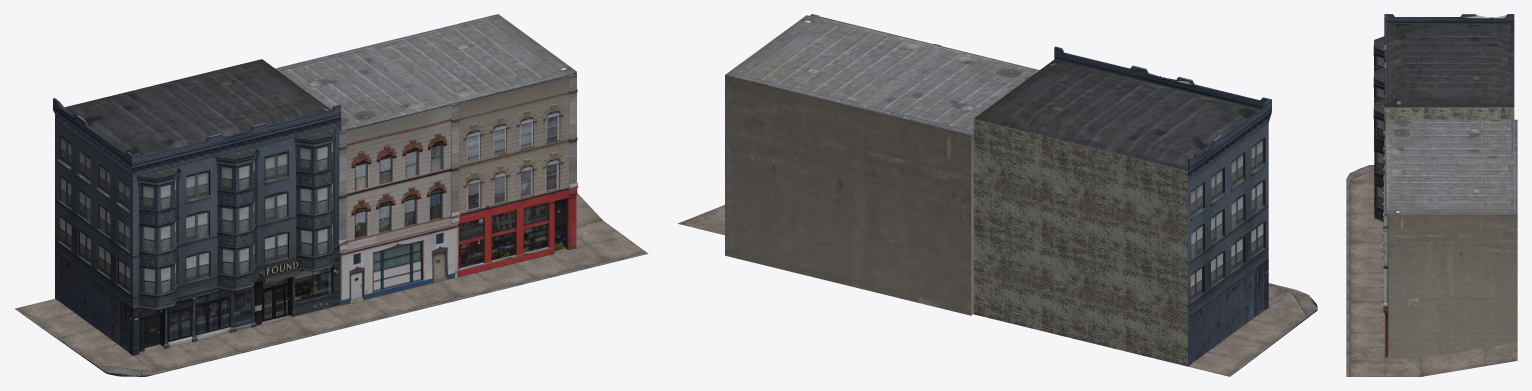
The model's file is chicago_b2.glb.
3 renders of one model, left to right at view 1: azimuth 30°, elevation 25°; view 2: azimuth 150°, elevation 25°; view 3: azimuth 270°, elevation 25°, orthographic. The views are drawn at different scales.
Parts seen in each view (by area): view 1: Object_6, Object_12, Object_4; view 2: Object_12, Object_8, Object_6, Object_4; view 3: Object_12, Object_6, Object_4, Object_8.
Boxes of the visible parts, box(x1,y1,x2,y2) form: Object_6: box(53, 59, 341, 355); Object_12: box(275, 14, 578, 305); Object_4: box(15, 193, 648, 376); Object_12: box(725, 14, 1039, 315); Object_8: box(973, 118, 1187, 366); Object_6: box(974, 46, 1271, 366); Object_4: box(678, 205, 1317, 376); Object_12: box(1383, 119, 1517, 358); Object_6: box(1373, 14, 1514, 221); Object_4: box(1346, 165, 1517, 376); Object_8: box(1384, 107, 1514, 144).
Size of the model in its own units: 198 by 71.86 by 67.26.
5 materials, 5 textured.
